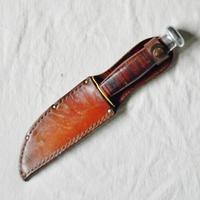knife: (16, 25, 182, 185)
